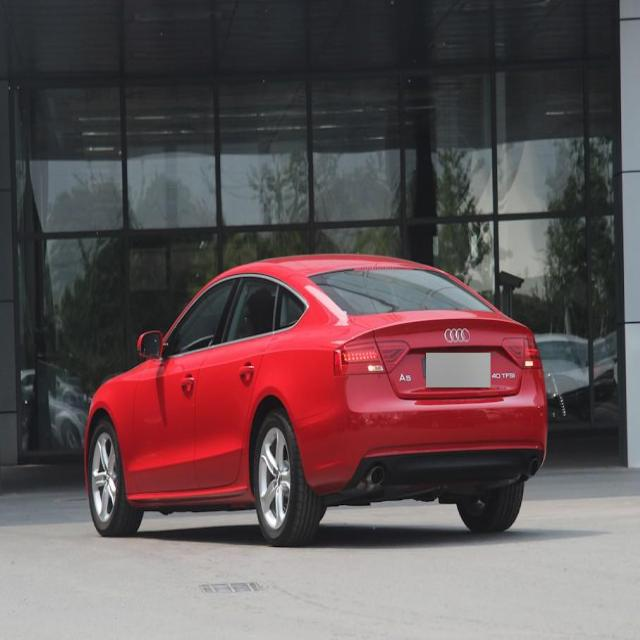back_glass: (304, 264, 496, 314)
back_left_side_light: (334, 338, 409, 378)
back_right_side_light: (501, 336, 543, 368)
door: (188, 272, 268, 514)
front_left_side_door: (130, 270, 241, 497)
front_left_side_mirror: (136, 328, 166, 361)
rear_bumper: (318, 381, 549, 486)
wheel: (252, 413, 318, 546), (87, 419, 143, 539), (451, 478, 526, 532)
